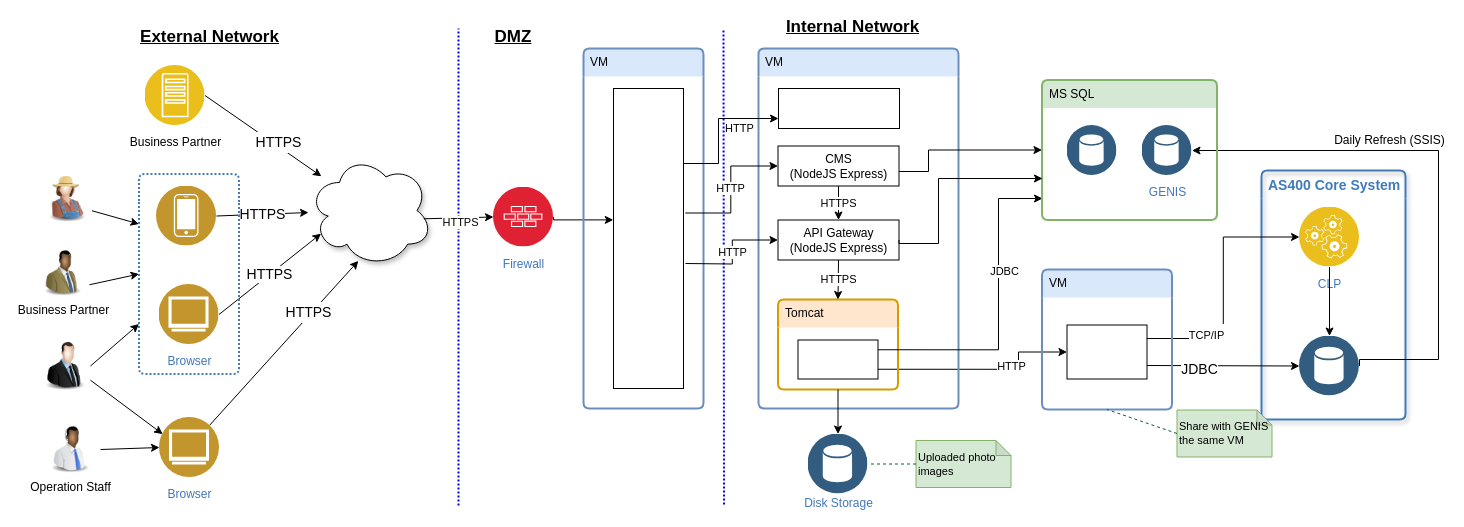
This 1464x527 diagram has some shape labels left out. Each missing label, with the centre of its shape:
Application Server: [837,359]
Bravo: [1091,150]
Bravo Web App (NodeJS Express): [839,108]
Broker: [65,365]
Client: [67,197]
Data Files: [1329,366]
Mobile Device: [186,216]
rProxy (NGINX): [648,238]
Spring Boot: [1106,351]
